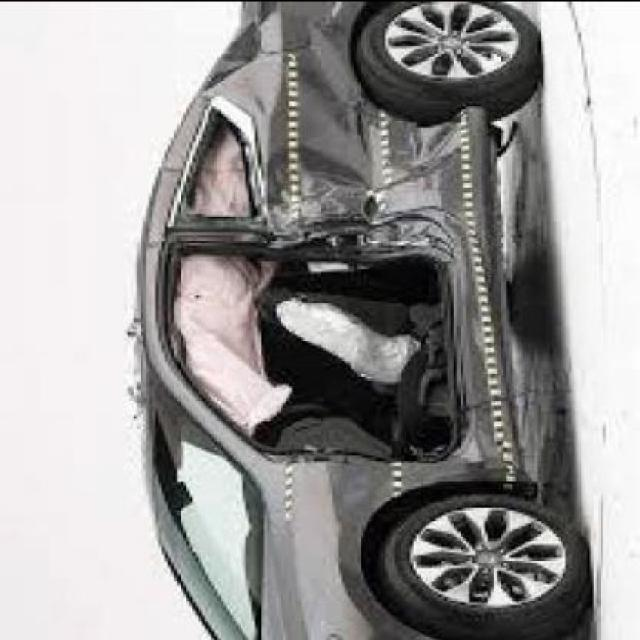damage: (170, 23, 525, 495)
